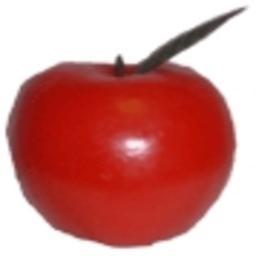apple: (7, 60, 236, 248)
